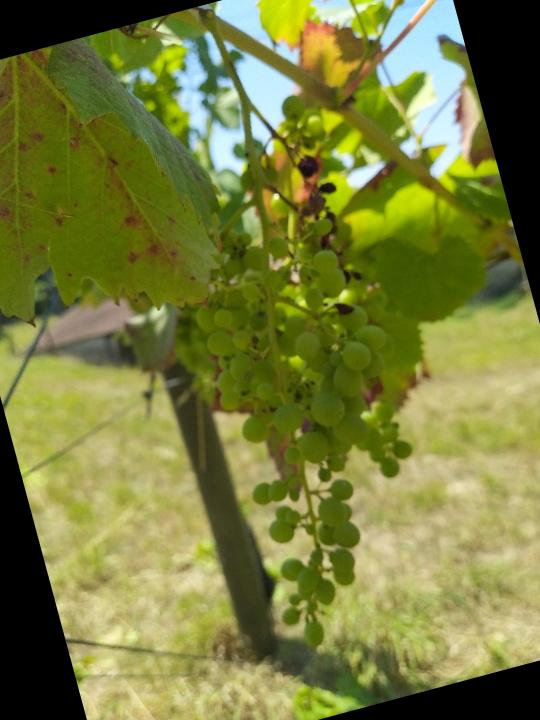grape: (173, 207, 465, 659)
